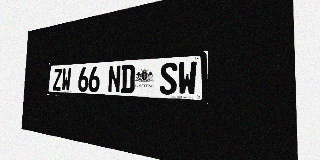6: (88, 66, 100, 92), (78, 67, 89, 92)
D: (121, 64, 135, 93)
N: (108, 65, 121, 93)
S: (160, 62, 177, 95)
W: (178, 61, 197, 96), (61, 68, 71, 91)
Z: (53, 68, 62, 91)
